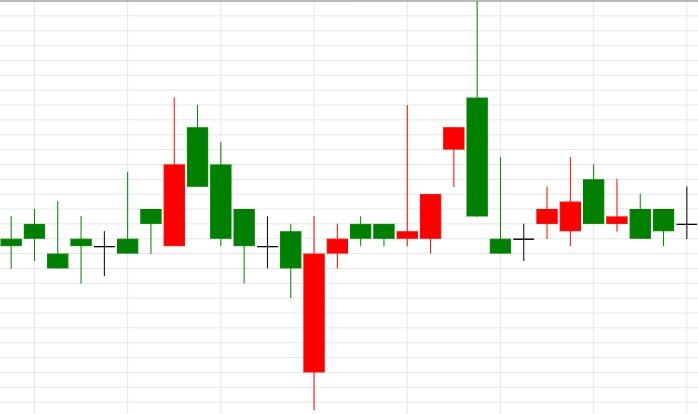bearish_engulfing_fall: (304, 1, 488, 410)
bullish_engulfing_rise: (187, 105, 325, 411)
